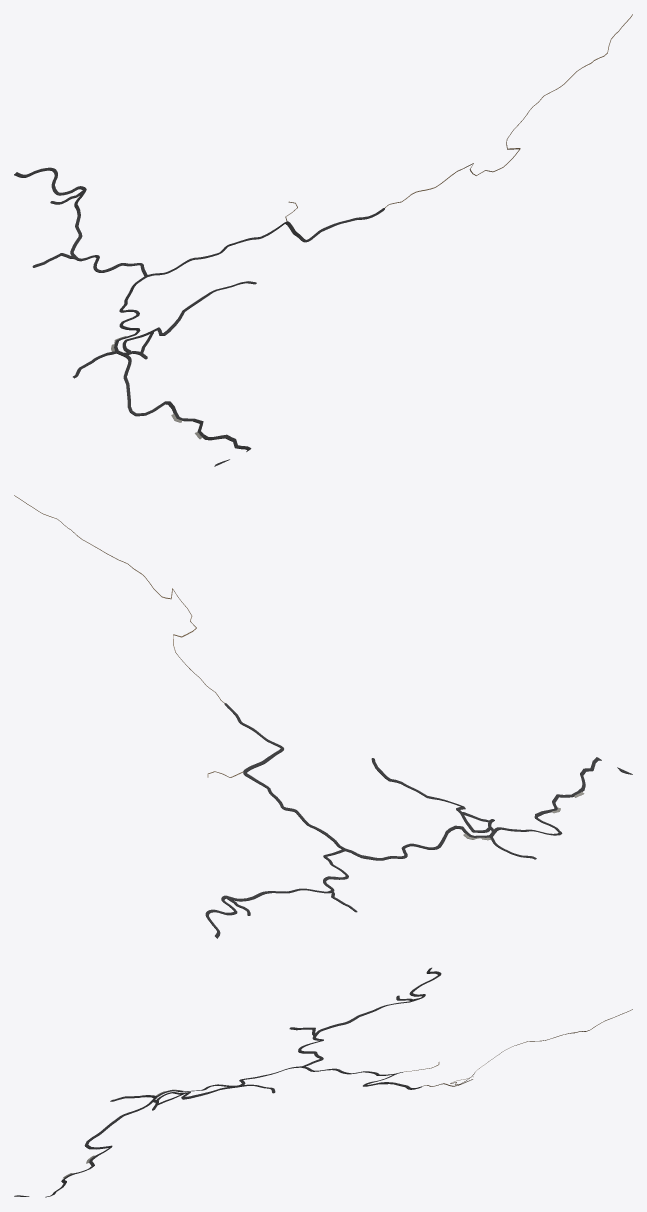
3 views of the same model, one above another, from view 1: azimuth 30°, elevation 25°; view 2: azimuth 150°, elevation 25°; view 3: azimuth 330°, elevation 25° (orthographic). The views are drawn at different scales.
Size of the model in its own units: 1174 by 503 by 1167.
